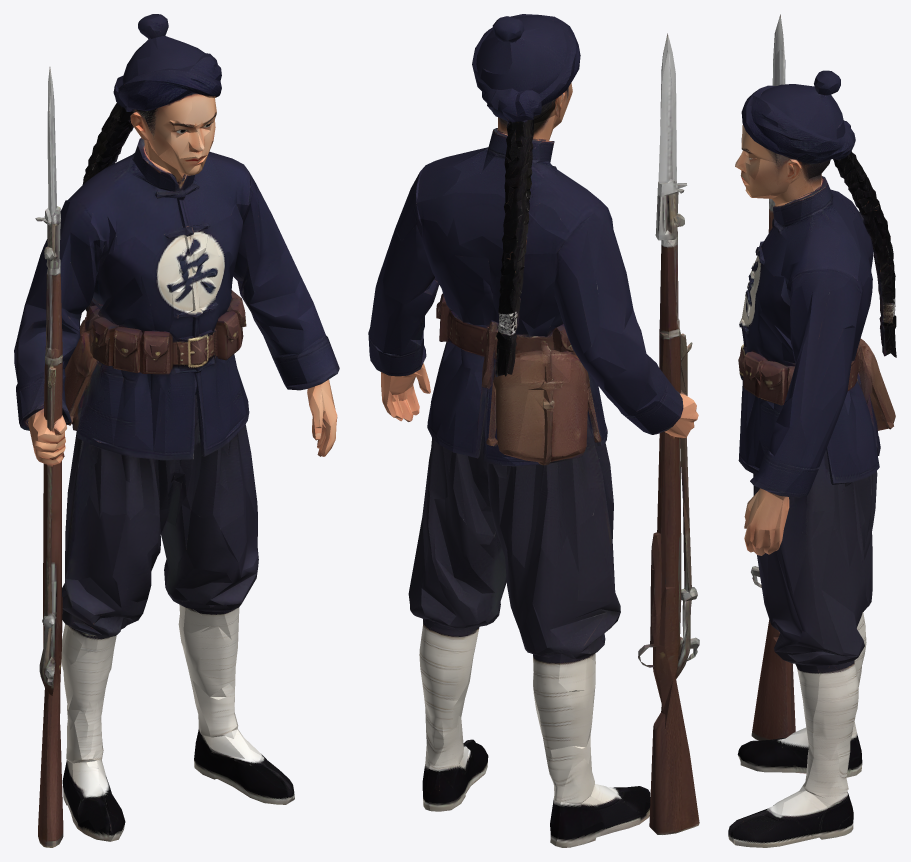
The model's file is qing_soldier.glb.
The picture shows the model from 3 angles, left to right: view 1: azimuth 30°, elevation 25°; view 2: azimuth 150°, elevation 25°; view 3: azimuth 270°, elevation 25°; orthographic projection. The views are drawn at different scales.
Bounding box in the file's own units: 0.7871 × 1.9 × 0.3972.
Materials: 1 (1 with a texture image).
